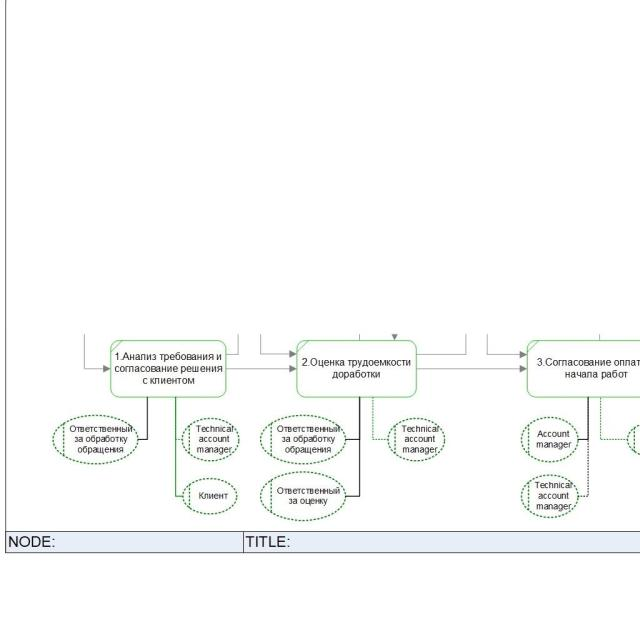arrow: (416, 363, 527, 375), (227, 363, 297, 374)
rectangle: (296, 339, 417, 397), (110, 339, 227, 398)
